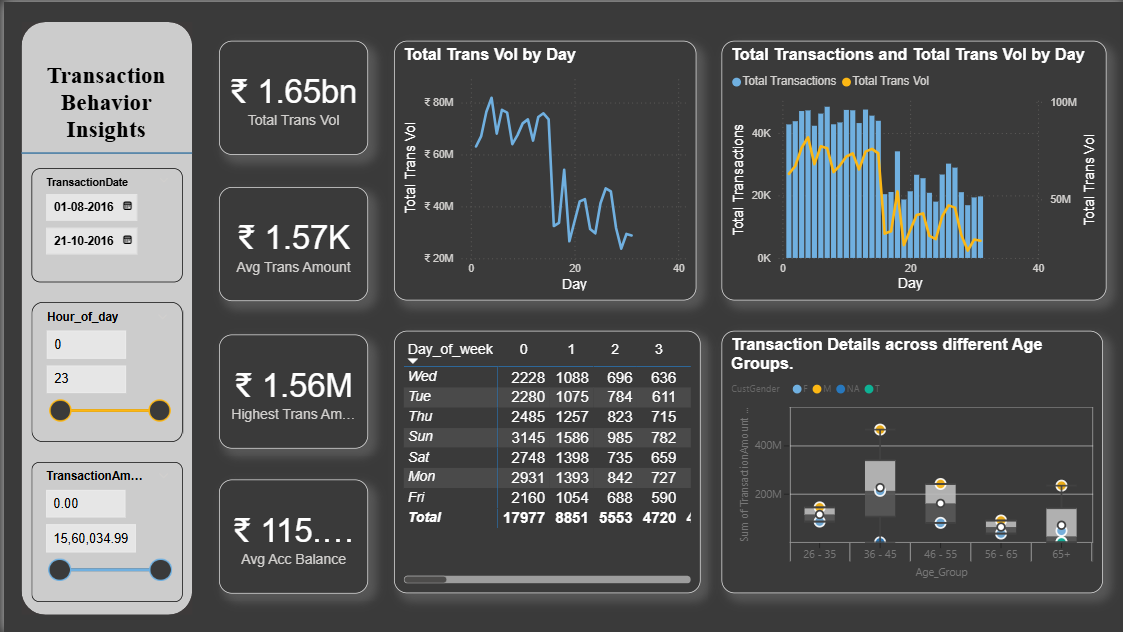

What the dashboard file says about the page in this screenshot:
{"tool":"powerbi","page":{"name":"Report-2","canvas":[1280,720],"ordinal":1},"visuals":[{"type":"group","id":"g1","title":"Group 1","box":[20,23,195,677.5],"z":0},{"type":"shape","box":[20,23,195,677.5],"z":1,"group":"g2"},{"type":"textbox","box":[35,64.6,162.1,105],"z":501,"group":"g2"},{"type":"group","id":"g2","title":"Group 2","box":[20,23,195,677.5],"z":503,"group":"g1"},{"type":"card","fields":{"Values":["Transaction Insights.Total Trans Vol"]},"box":[245,45,170,130],"z":1000},{"type":"card","fields":{"Values":["Transaction Insights.Avg Txn"]},"box":[245,212,170,130],"z":2000},{"type":"card","fields":{"Values":["Transaction Insights.Max Txn"]},"box":[245,380,170,130],"z":3000},{"type":"card","fields":{"Values":["Transaction Insights.Avg Acc Balance"]},"box":[245,545,170,130],"z":4000},{"type":"lineChart","fields":{"Category":["Transaction Insights.TransactionDate.Variation.Date Hierarchy.Year","Transaction Insights.TransactionDate.Variation.Date Hierarchy.Quarter","Transaction Insights.TransactionDate.Variation.Date Hierarchy.Month","Transaction Insights.TransactionDate.Variation.Date Hierarchy.Day"],"Y":["Transaction Insights.Total Trans Vol"]},"box":[445,44.3,345.7,297.1],"z":5000},{"type":"lineClusteredColumnComboChart","fields":{"Category":["Transaction Insights.TransactionDate.Variation.Date Hierarchy.Year","Transaction Insights.TransactionDate.Variation.Date Hierarchy.Quarter","Transaction Insights.TransactionDate.Variation.Date Hierarchy.Month","Transaction Insights.TransactionDate.Variation.Date Hierarchy.Day"],"Y":["Transaction Insights.Total Transactions"],"Y2":["Transaction Insights.Total Trans Vol"]},"box":[820,44.3,440,297.1],"z":6000},{"type":"pivotTable","fields":{"Columns":["Transaction Insights.Hour_of_day"],"Rows":["Transaction Insights.Day_of_week"],"Values":["Transaction Insights.Total Transactions"]},"box":[445,375.7,350,300],"z":7000},{"type":"BoxandWhiskerByMAQ1823AD39DT234AB532063E128AX","title":"Transaction Details across different Age Groups.","fields":{"category":["Transaction Insights.Age_Group"],"measure":["Sum(Transaction Insights.TransactionAmount (INR))"],"categoryColor":["Transaction Insights.CustGender"],"categoryGroup":["Transaction Insights.Age_Group"]},"box":[820,375.7,435.7,300],"z":8000},{"type":"slicer","fields":{"Values":["Transaction Insights.TransactionDate"]},"box":[31,190,172.5,130],"z":9000},{"type":"shape","box":[20,146.3,195,53.9],"z":9001,"group":"g1"},{"type":"slicer","fields":{"Values":["Transaction Insights.TransactionAmount (INR)"]},"box":[31,525,172.5,160],"z":10000},{"type":"slicer","fields":{"Values":["Transaction Insights.Hour_of_day"]},"box":[31.2,342.5,172.5,160],"z":11000}]}

Visuals, with their boxes in screenshot pixels (x1, y1, x2, y2), scaled from the page's 1280x720 canvas onto the 1123x632 screenshot:
"Group 1" group: [left=18, top=20, right=189, bottom=615]
shape: [left=18, top=20, right=189, bottom=615]
textbox: [left=31, top=57, right=173, bottom=149]
"Group 2" group: [left=18, top=20, right=189, bottom=615]
card - Transaction Insights.Total Trans Vol: [left=215, top=40, right=364, bottom=154]
card - Transaction Insights.Avg Txn: [left=215, top=186, right=364, bottom=300]
card - Transaction Insights.Max Txn: [left=215, top=334, right=364, bottom=448]
card - Transaction Insights.Avg Acc Balance: [left=215, top=478, right=364, bottom=592]
lineChart - Transaction Insights.TransactionDate.Variation.Date Hierarchy.Year x Transaction Insights.TransactionDate.Variation.Date Hierarchy.Quarter: [left=390, top=39, right=694, bottom=300]
lineClusteredColumnComboChart - Transaction Insights.TransactionDate.Variation.Date Hierarchy.Year x Transaction Insights.TransactionDate.Variation.Date Hierarchy.Quarter: [left=719, top=39, right=1105, bottom=300]
pivotTable - Transaction Insights.Hour_of_day x Transaction Insights.Day_of_week: [left=390, top=330, right=697, bottom=593]
"Transaction Details across different Age Groups." BoxandWhiskerByMAQ1823AD39DT234AB532063E128AX: [left=719, top=330, right=1102, bottom=593]
slicer - Transaction Insights.TransactionDate: [left=27, top=167, right=179, bottom=281]
shape: [left=18, top=128, right=189, bottom=176]
slicer - Transaction Insights.TransactionAmount (INR): [left=27, top=461, right=179, bottom=601]
slicer - Transaction Insights.Hour_of_day: [left=27, top=301, right=179, bottom=441]
